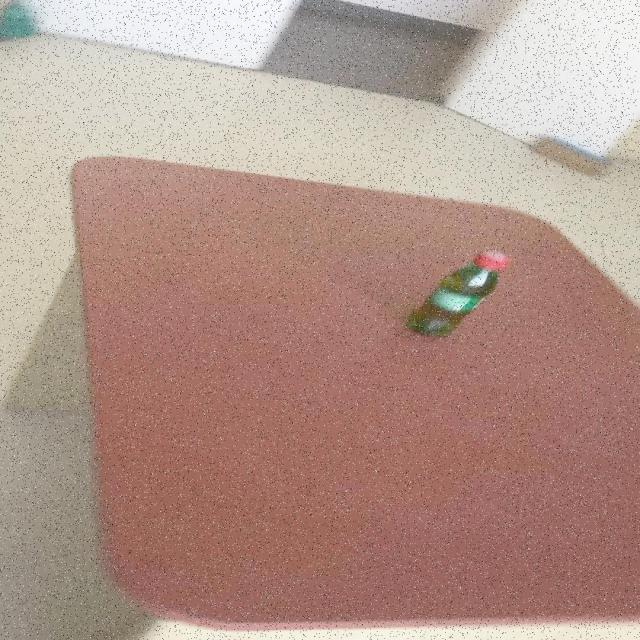Guarana: (402, 248, 511, 338)
